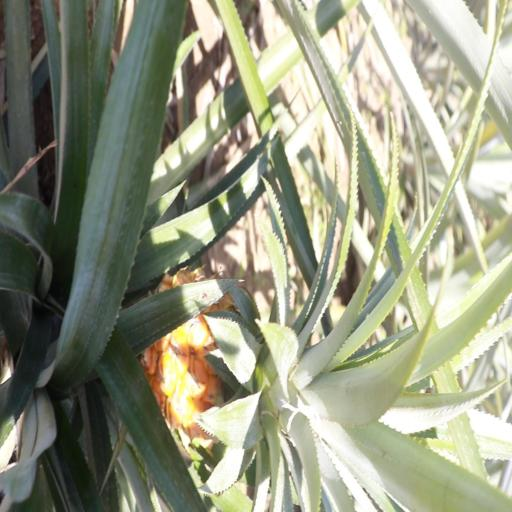Pineapple - v8 v1: (128, 294, 384, 486)
